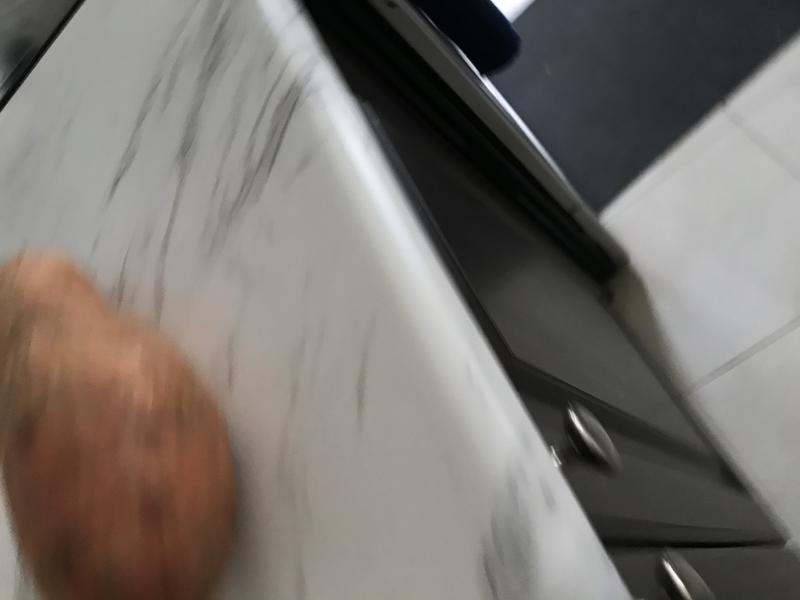sweet_potato: (1, 233, 251, 592)
